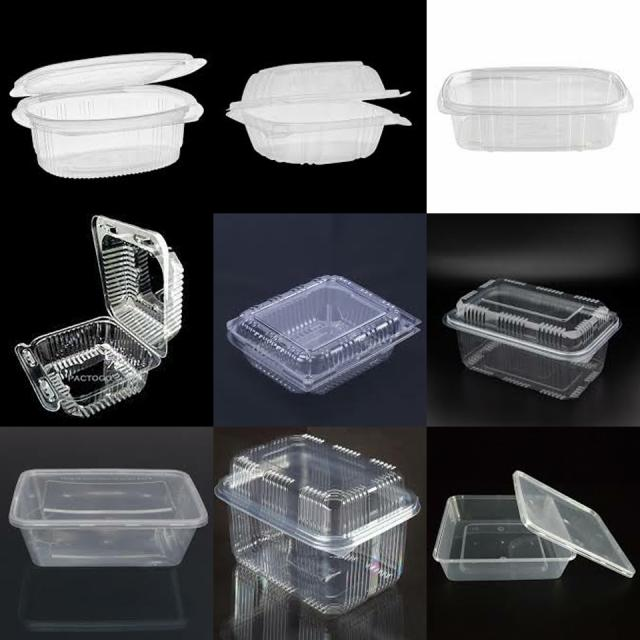Single-Use-Plastic: (215, 434, 420, 615), (15, 216, 184, 417), (10, 52, 206, 178), (228, 275, 421, 393), (444, 280, 620, 398), (9, 469, 208, 567), (228, 61, 410, 163), (438, 68, 632, 151), (512, 471, 635, 577), (432, 494, 579, 581)
